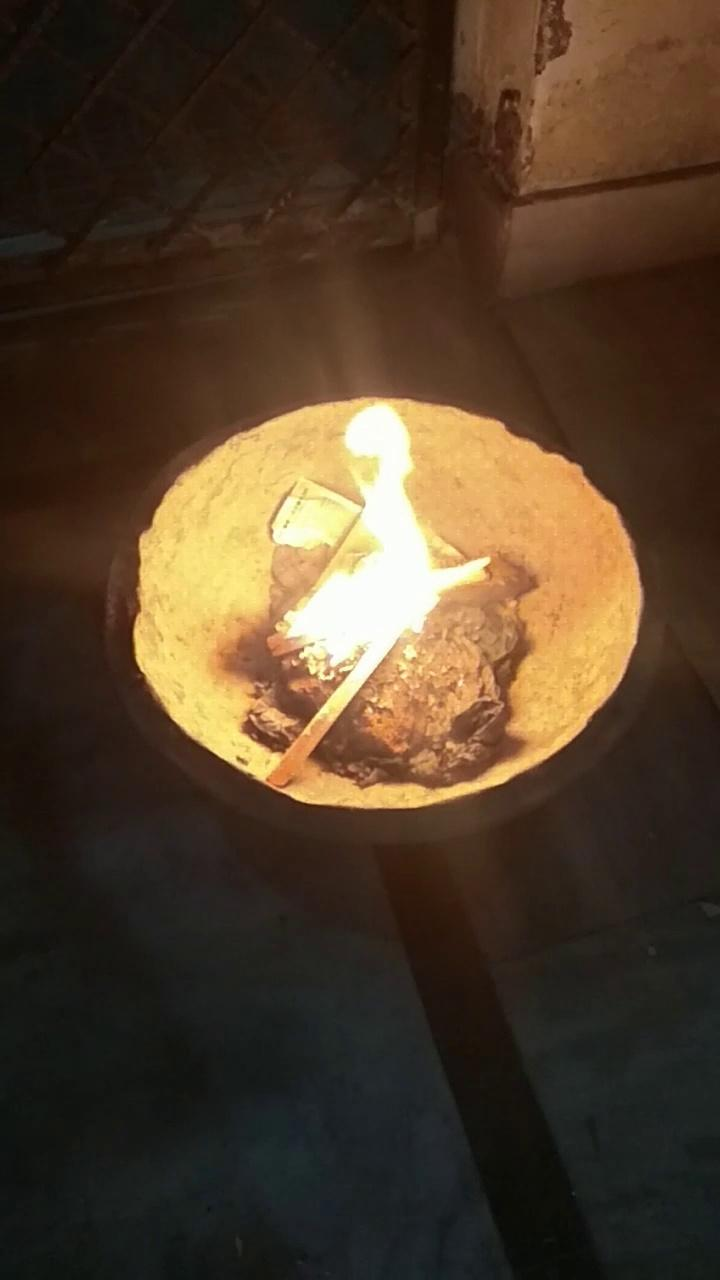fire: (222, 380, 535, 660)
